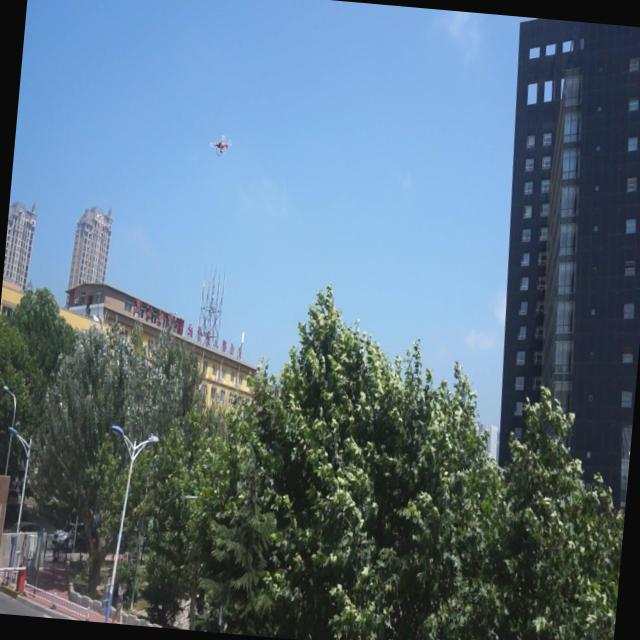drone: (208, 128, 235, 160)
